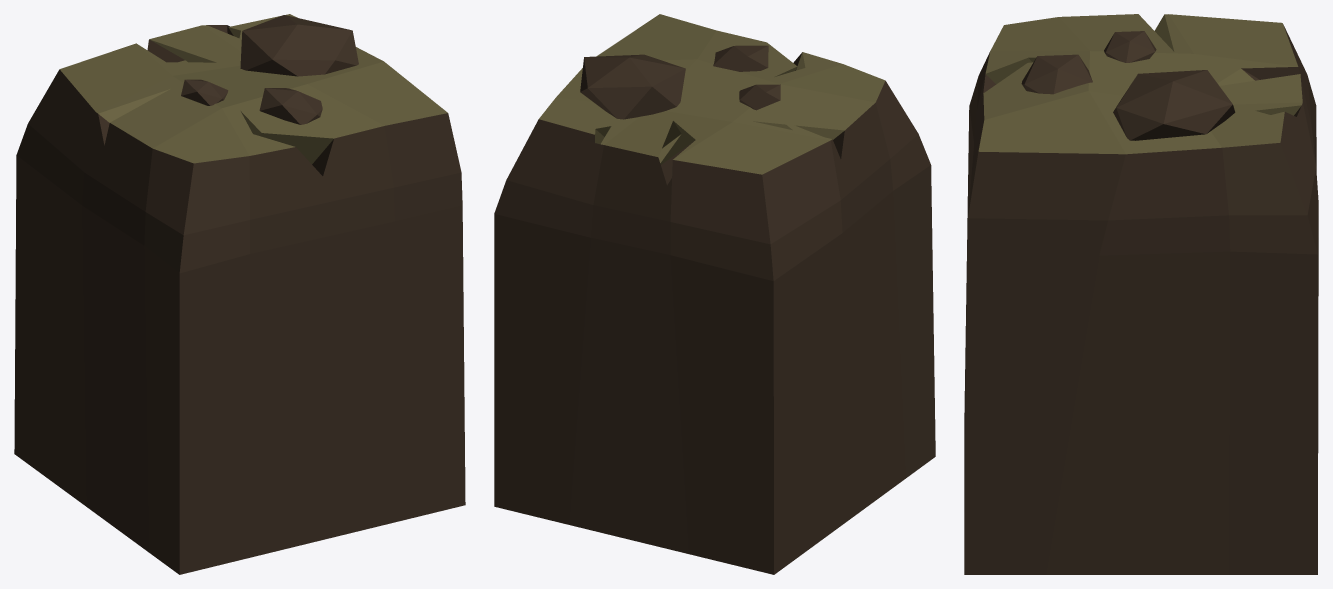
Rendered from TileWall_06.fbx.
3 renders of one model, left to right at view 1: azimuth 30°, elevation 25°; view 2: azimuth 150°, elevation 25°; view 3: azimuth 270°, elevation 25°, orthographic. The views are drawn at different scales.
Visible parts, largest first — view 1: WallTile_06; view 2: WallTile_06; view 3: WallTile_06.
Part boxes in pixels (<box>): WallTile_06: <box>14,14,465,574</box>; WallTile_06: <box>494,14,935,574</box>; WallTile_06: <box>964,14,1318,574</box>.
Bounding box in the file's own units: 101 × 143 × 100.
